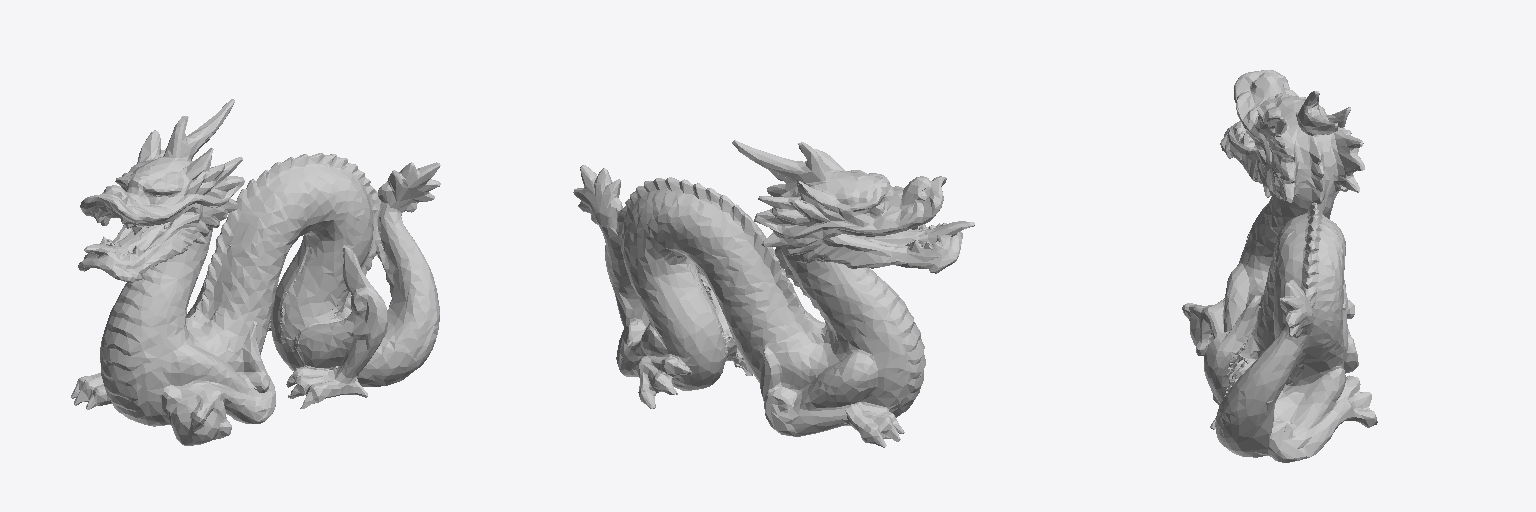
The model's file is dragon.obj.
3 renders of one model, left to right at view 1: azimuth 30°, elevation 25°; view 2: azimuth 150°, elevation 25°; view 3: azimuth 270°, elevation 25°, orthographic.
Visible parts, largest first — view 1: default.002; view 2: default.002; view 3: default.002.
Part boxes in pixels (x1,y1,x2,y2): default.002: (71,99,440,445); default.002: (573,140,974,447); default.002: (1182,70,1377,462).
Bounding box in the file's own units: 14.1 × 9.93 × 6.31.